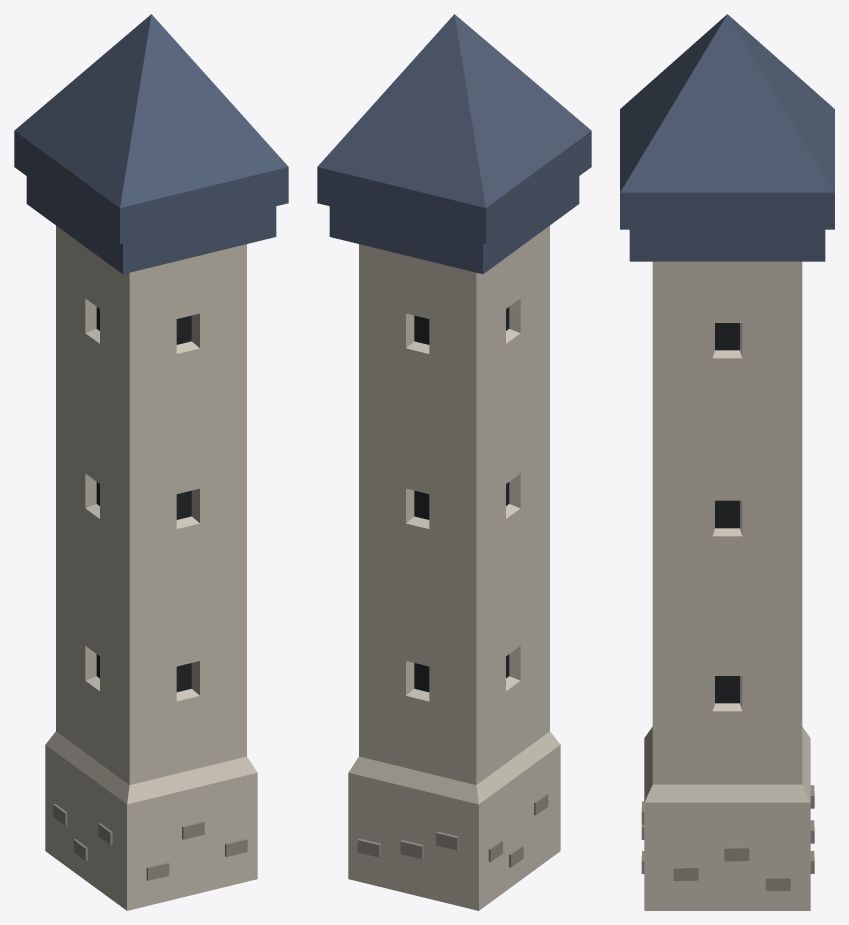
File: c_round.glb
3 renders of one model, left to right at view 1: azimuth 30°, elevation 25°; view 2: azimuth 150°, elevation 25°; view 3: azimuth 270°, elevation 25°, orthographic.
Visible parts, largest first — view 1: LargeSimpleTower; view 2: LargeSimpleTower; view 3: LargeSimpleTower.
Part boxes in pixels (x1,y1,x2,y2): LargeSimpleTower: (14,14,288,910); LargeSimpleTower: (317,14,591,910); LargeSimpleTower: (620,14,834,910).
Size of the model in its own units: 0.7657 by 3.69 by 0.8311.
